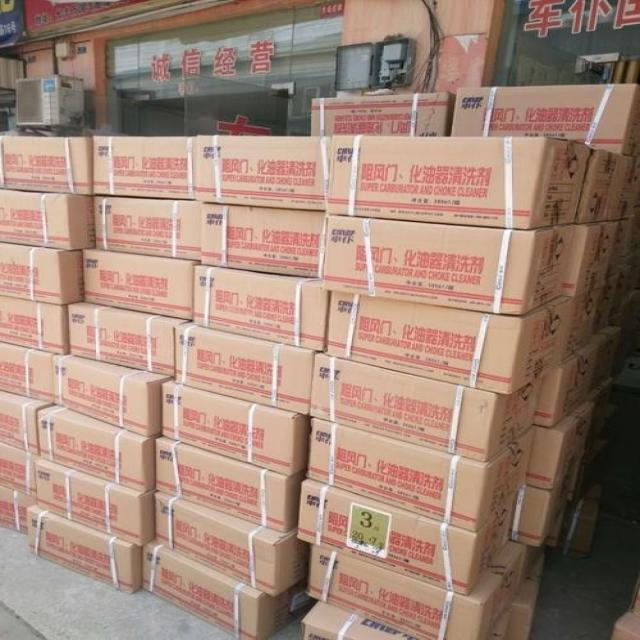box: (307, 417, 531, 533), (310, 354, 543, 464), (321, 214, 572, 316), (296, 479, 518, 594), (328, 290, 572, 394), (326, 135, 590, 230), (306, 543, 530, 639), (141, 540, 319, 639), (154, 493, 311, 598), (155, 436, 307, 533), (161, 380, 310, 476), (448, 85, 640, 158), (175, 323, 312, 415), (193, 266, 333, 352), (33, 456, 154, 549), (193, 135, 332, 211), (37, 404, 155, 493), (27, 505, 142, 595), (55, 354, 172, 436), (68, 302, 191, 378), (201, 203, 323, 278), (82, 248, 195, 321), (93, 196, 201, 261), (93, 135, 195, 198), (308, 91, 453, 135), (529, 400, 596, 491), (0, 189, 93, 250), (0, 135, 92, 195), (535, 343, 600, 427), (0, 243, 83, 307), (573, 149, 636, 226), (562, 221, 620, 298), (300, 603, 419, 640), (0, 296, 69, 355), (0, 344, 59, 404), (0, 390, 52, 456), (561, 287, 604, 364), (506, 557, 539, 639), (0, 443, 41, 499), (513, 486, 550, 547), (0, 486, 35, 534), (612, 594, 640, 639)
